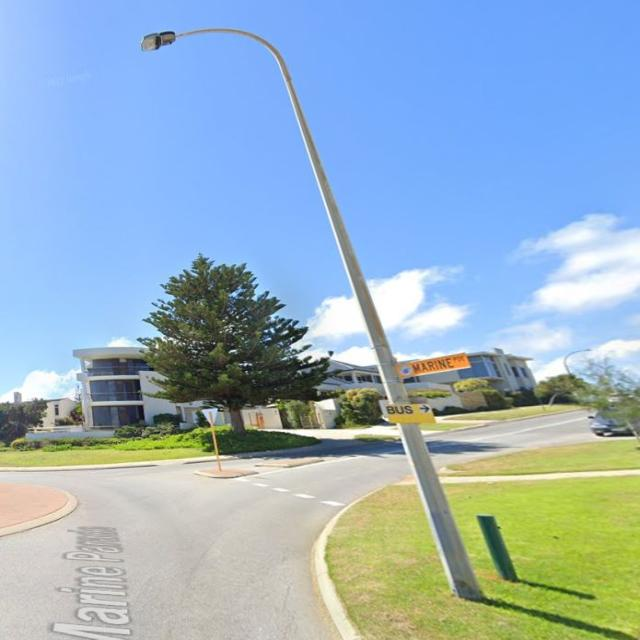steel-pole: (277, 56, 487, 604)
streetlight: (139, 27, 289, 78)
